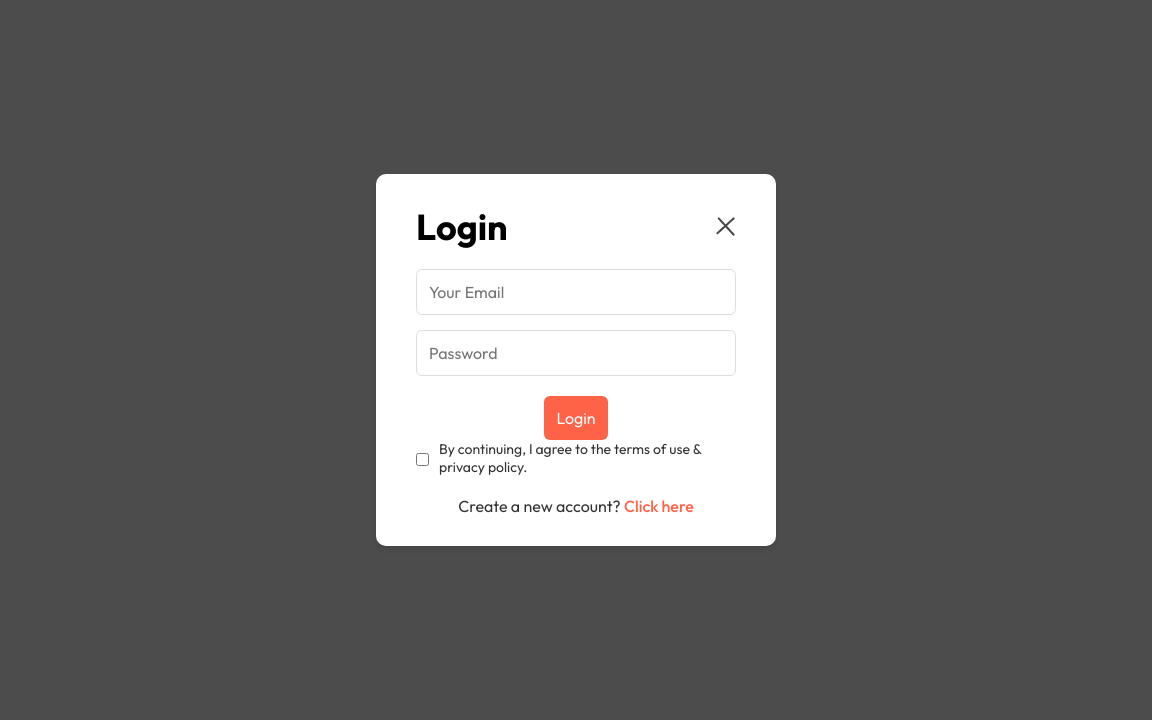
Test: LoginPopup Component › handles login failure
In the field with placeholder "Your Email": (576, 292) [416,269,736,315], type "test@example.com"
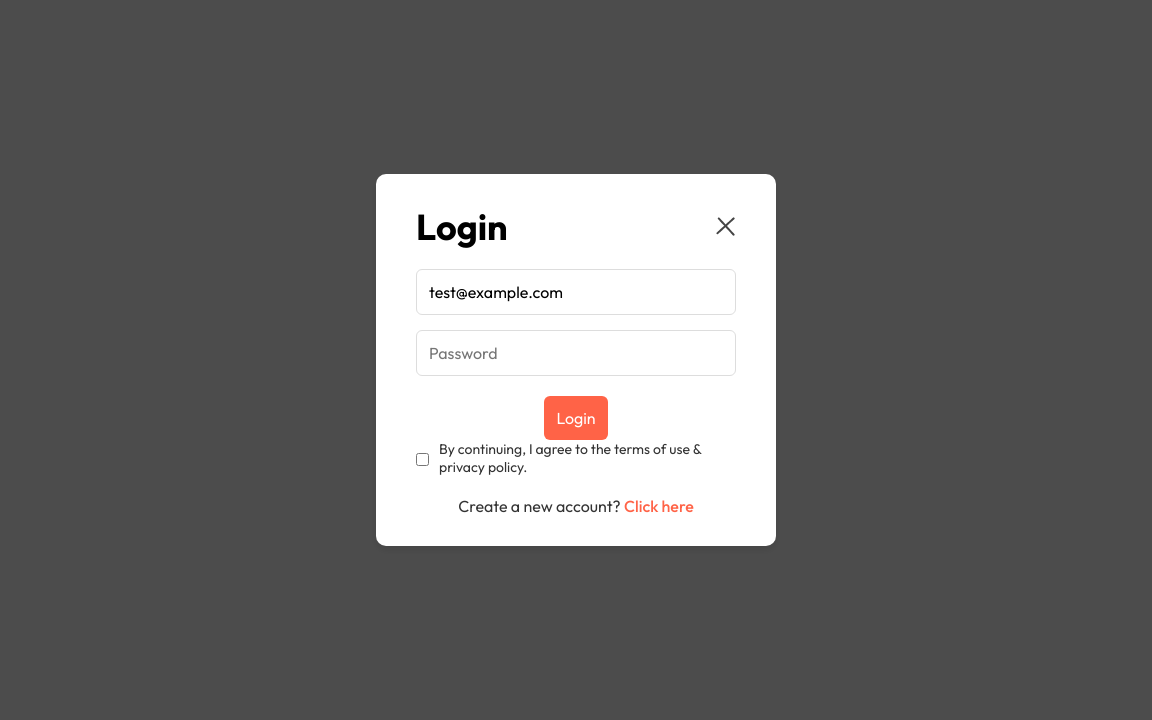
In the password field with placeholder "Password": (576, 353) [416,330,736,376], type "password"
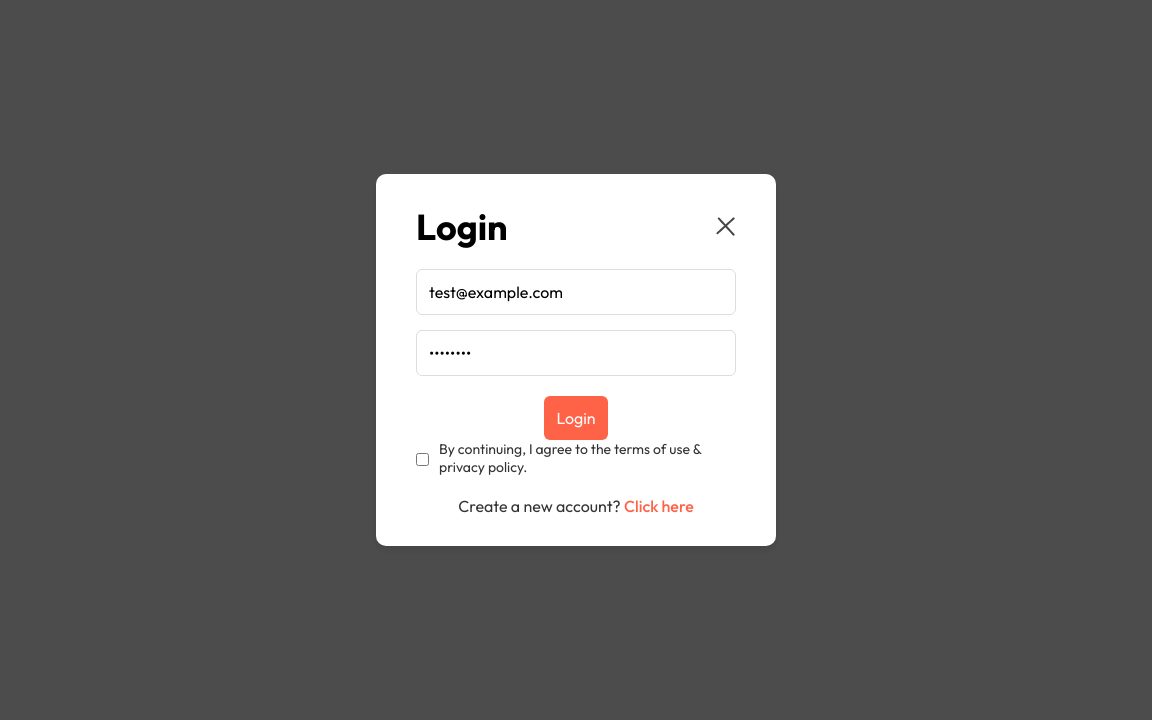
Submit the form from the button "Login", box [544,396,608,440]
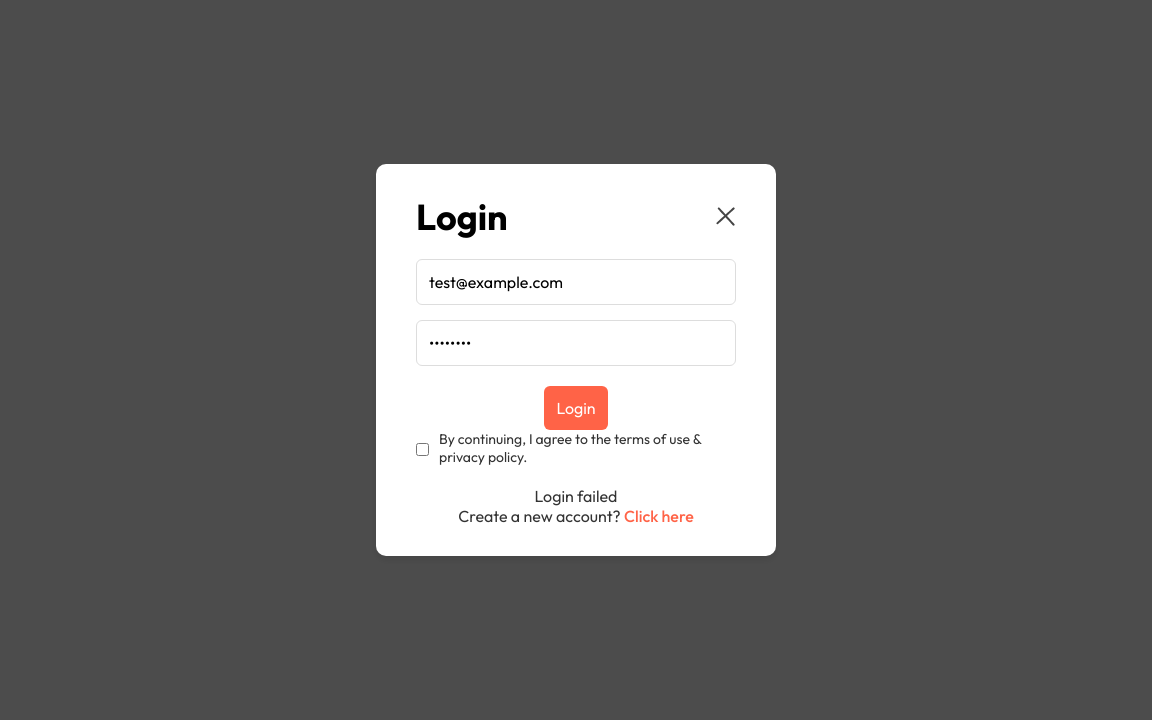
Expected: the text "Login failed" is shown, [535,486,617,506]
